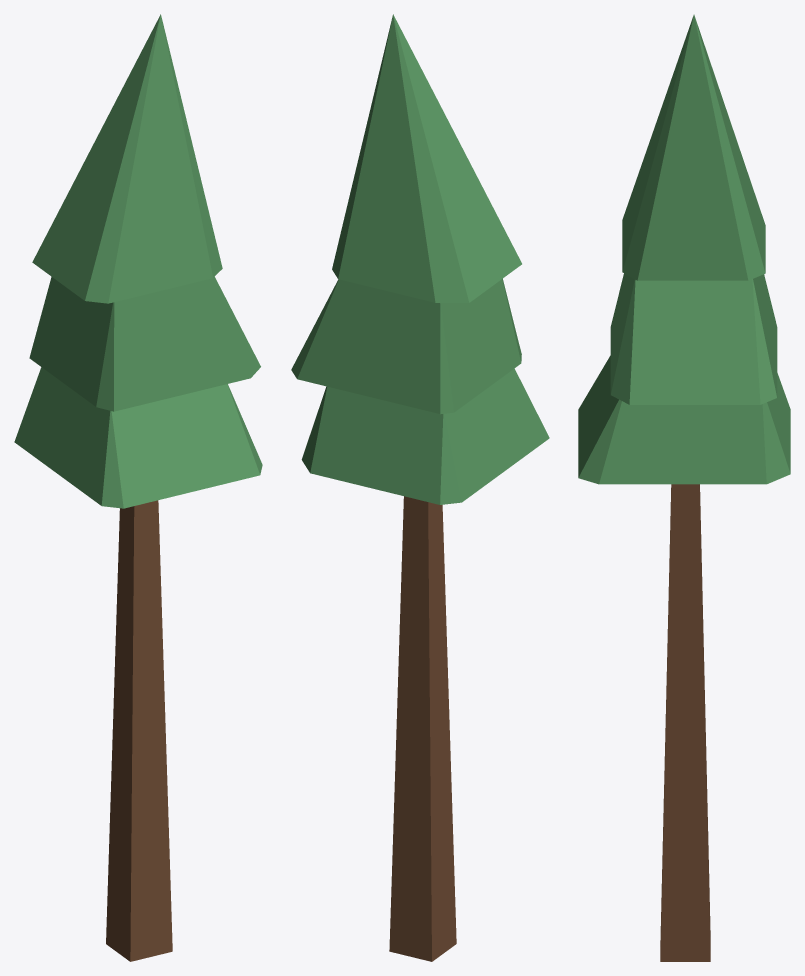
Rendered from nature_tree_pine_tall_b.glb.
3 renders of one model, left to right at view 1: azimuth 30°, elevation 25°; view 2: azimuth 150°, elevation 25°; view 3: azimuth 270°, elevation 25°, orthographic. The views are drawn at different scales.
Parts seen in each view (by area): view 1: tree_pineTallB; view 2: tree_pineTallB; view 3: tree_pineTallB.
Boxes of the visible parts, left/top/right/bottom form: tree_pineTallB: left=14, top=14, right=262, bottom=961; tree_pineTallB: left=291, top=14, right=549, bottom=961; tree_pineTallB: left=578, top=14, right=790, bottom=961.
Bounding box in the file's own units: 0.8498 × 4.26 × 0.8623.
